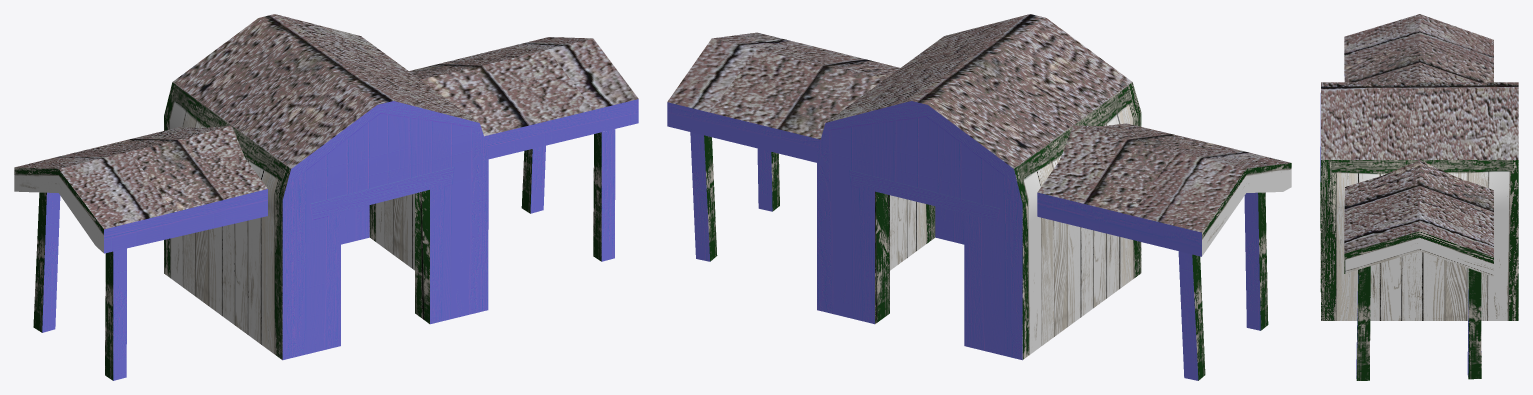
File: TrainStationRedux.fbx
3 renders of one model, left to right at view 1: azimuth 30°, elevation 25°; view 2: azimuth 150°, elevation 25°; view 3: azimuth 270°, elevation 25°, orthographic. The views are drawn at different scales.
Visible parts, largest first — view 1: TrainStationRedux; view 2: TrainStationRedux; view 3: TrainStationRedux.
Part boxes in pixels (bbox=[...]): TrainStationRedux: bbox=[14, 14, 638, 380]; TrainStationRedux: bbox=[667, 14, 1291, 380]; TrainStationRedux: bbox=[1320, 14, 1518, 380].
Size of the model in its own units: 1300 by 540 by 502.
